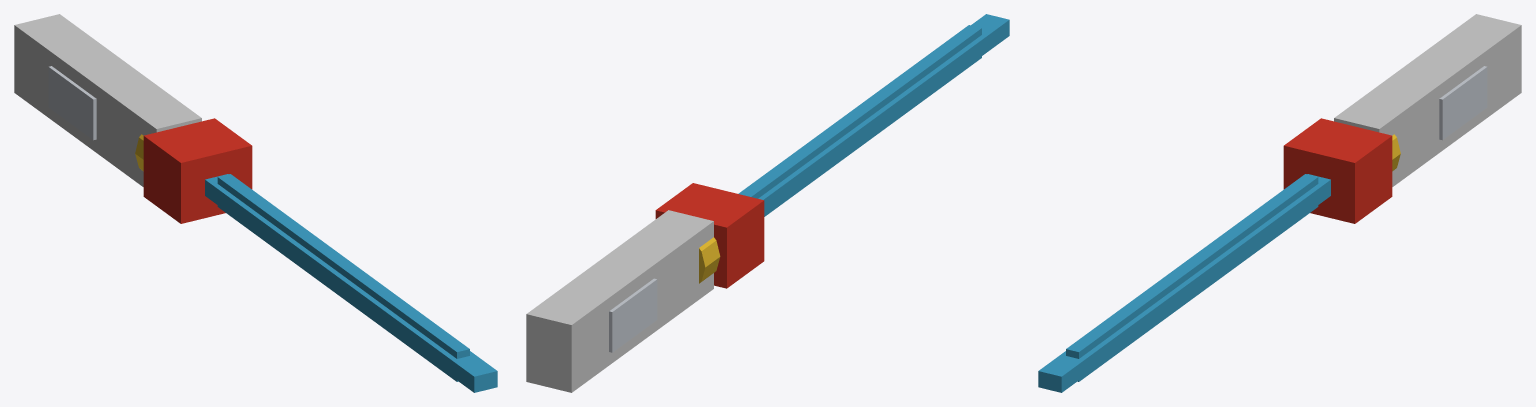
Rendered from plasma_blade.obj.
The picture shows the model from 3 angles, left to right: view 1: azimuth 30°, elevation 25°; view 2: azimuth 150°, elevation 25°; view 3: azimuth 330°, elevation 25°; orthographic projection.
Visible parts, largest first — view 1: plasma_blade; view 2: plasma_blade; view 3: plasma_blade.
Boxes of the visible parts, left/top/right/bottom form: plasma_blade: left=14, top=14, right=497, bottom=392; plasma_blade: left=526, top=14, right=1009, bottom=392; plasma_blade: left=1038, top=14, right=1521, bottom=392.
Size of the model in its own units: 0.11 by 0.1 by 1.2.
